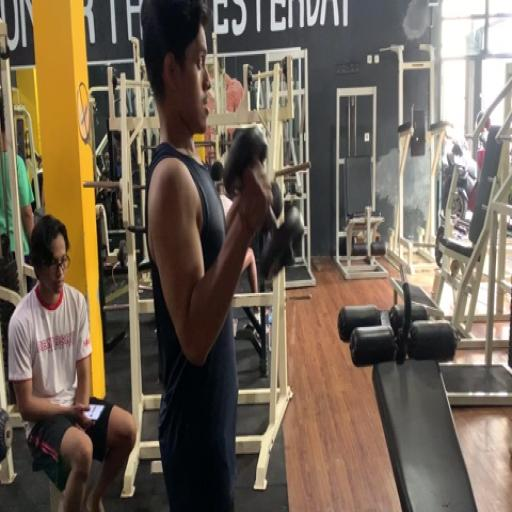exercise: (139, 0, 277, 511), (6, 214, 140, 510)
